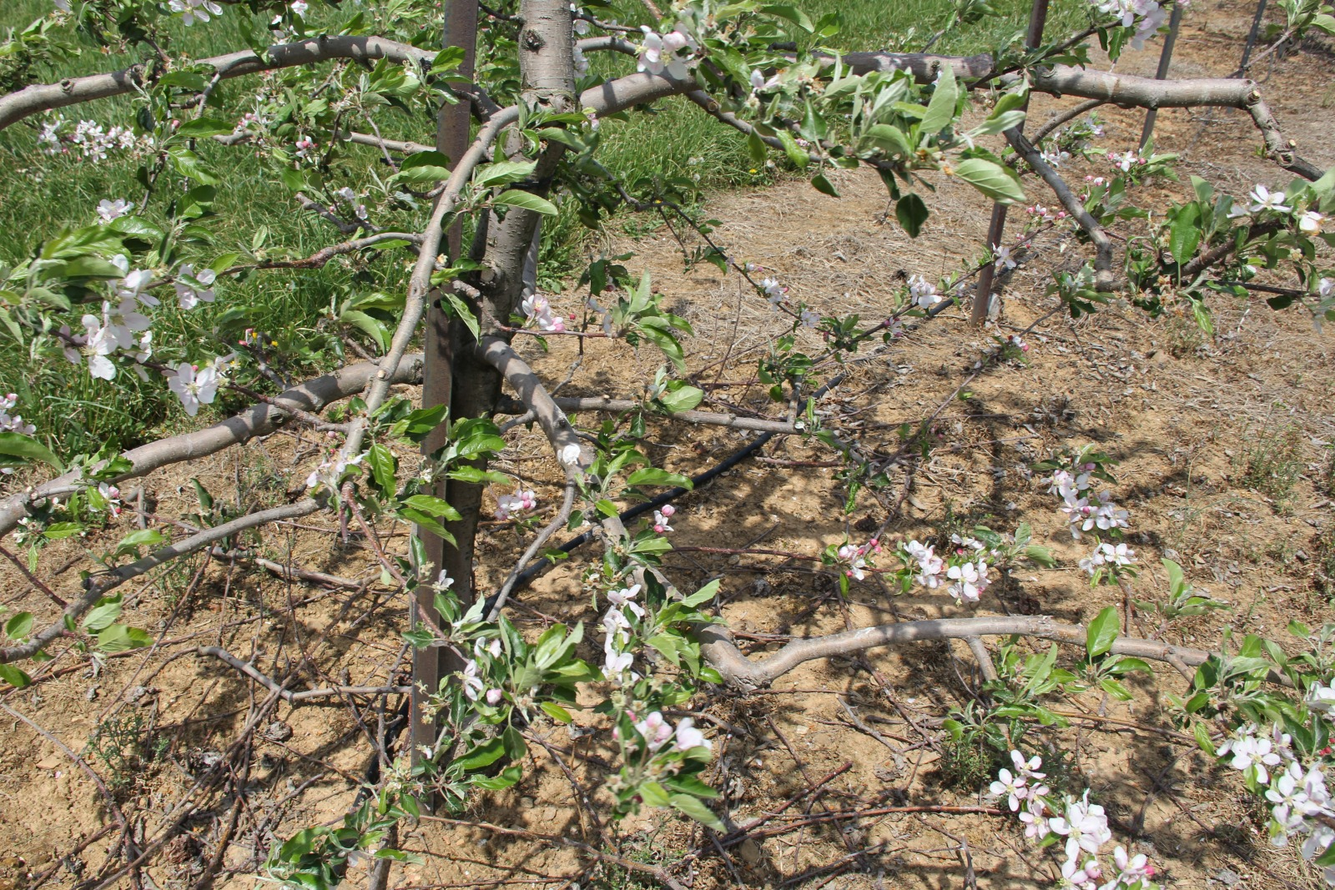flower: (990, 750, 1112, 884), (1232, 722, 1335, 825), (82, 268, 154, 380), (1039, 470, 1132, 531), (602, 585, 647, 681), (1100, 0, 1170, 52), (637, 22, 693, 80), (174, 363, 220, 417), (73, 119, 124, 164), (948, 558, 992, 608), (1079, 542, 1138, 578), (904, 534, 943, 588), (1292, 815, 1335, 861), (522, 294, 564, 331), (169, 0, 224, 27), (0, 398, 37, 437), (494, 489, 537, 521), (907, 275, 945, 309), (1250, 184, 1293, 213), (636, 712, 673, 744), (676, 718, 712, 750), (1115, 847, 1147, 882), (642, 505, 680, 534), (839, 545, 869, 581), (96, 199, 134, 227), (761, 276, 789, 314), (175, 284, 215, 310), (950, 527, 985, 555), (40, 121, 63, 153), (1111, 151, 1141, 172), (993, 243, 1017, 269), (1294, 210, 1323, 231), (1311, 678, 1335, 701), (798, 310, 825, 329), (1227, 204, 1252, 219), (888, 317, 908, 335), (138, 294, 161, 309), (290, 0, 309, 18), (197, 269, 216, 284), (179, 264, 194, 277), (1100, 490, 1111, 502)
